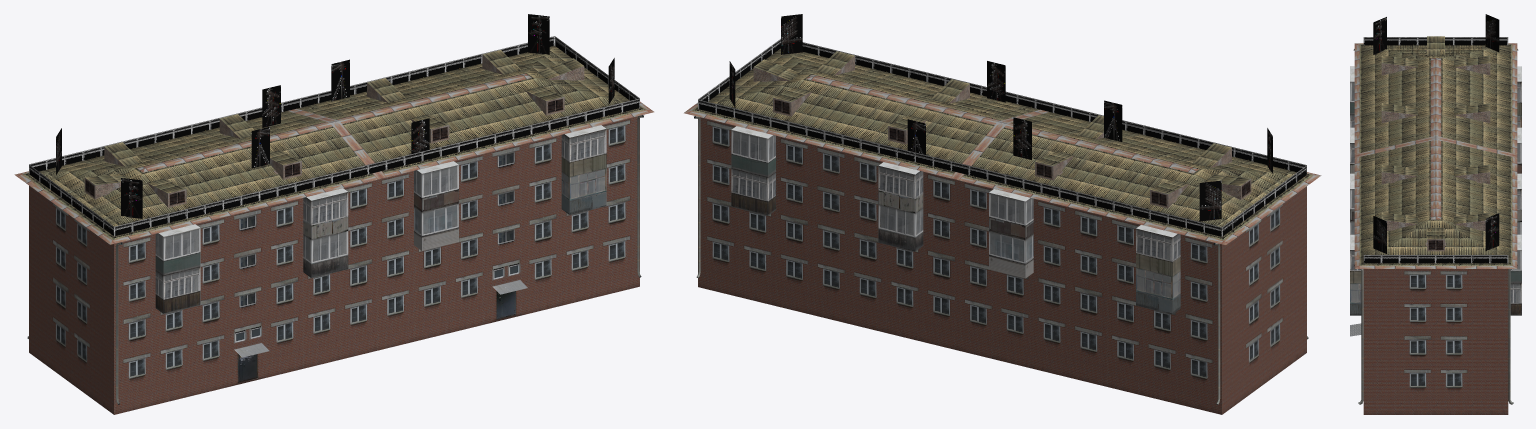
The model's file is rus_build_4et_01.fbx.
3 renders of one model, left to right at view 1: azimuth 30°, elevation 25°; view 2: azimuth 150°, elevation 25°; view 3: azimuth 270°, elevation 25°, orthographic. The views are drawn at different scales.
Visible parts, largest first — view 1: Regroup13, rus_build_dec_01; view 2: Regroup13, rus_build_dec_01; view 3: Regroup13, rus_build_dec_01.
Boxes of the visible parts, x1,y1,x2,y2 form: Regroup13: (14,45,653,414); rus_build_dec_01: (29,14,639,236); Regroup13: (684,48,1321,414); rus_build_dec_01: (698,14,1306,236); Regroup13: (1350,36,1521,414); rus_build_dec_01: (1363,14,1508,263).
Size of the model in its own units: 4130 by 1645 by 1330.
